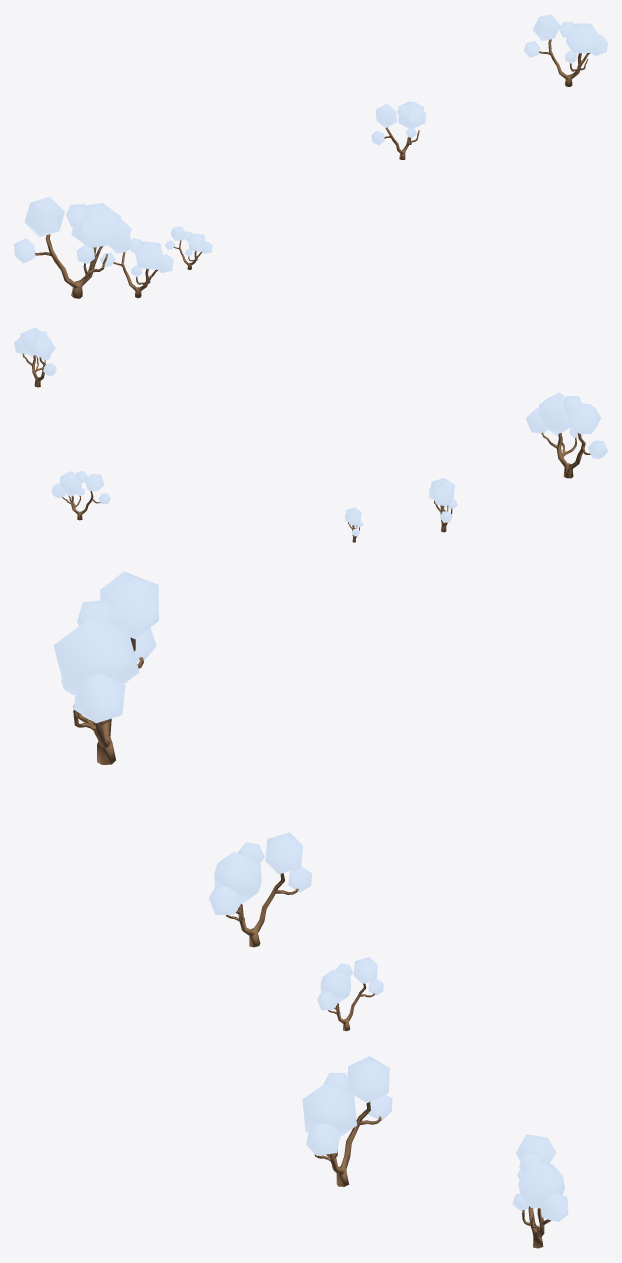
The model's file is atmosphere_tree_lights-compressed.glb.
3 views of the same model, one above another, from view 1: azimuth 30°, elevation 25°; view 2: azimuth 150°, elevation 25°; view 3: azimuth 270°, elevation 25° (orthographic). The views are drawn at different scales.
Visible parts, largest first — view 1: TreeLights.003, TreeLights.004, TreeLights.002, TreeLights, TreeLights.001; view 2: TreeLights.003, TreeLights.004, TreeLights, TreeLights.002, TreeLights.001; view 3: TreeLights.003, TreeLights.004, TreeLights.002, TreeLights, TreeLights.001.
Part boxes in pixels (<box>): TreeLights.003: <box>14,196,131,298</box>; TreeLights.004: <box>524,14,607,86</box>; TreeLights.002: <box>100,236,173,298</box>; TreeLights: <box>371,101,426,159</box>; TreeLights.001: <box>165,226,212,269</box>; TreeLights.003: <box>526,392,607,478</box>; TreeLights.004: <box>14,327,56,387</box>; TreeLights: <box>52,471,110,520</box>; TreeLights.002: <box>429,477,457,532</box>; TreeLights.001: <box>345,507,362,542</box>; TreeLights.003: <box>53,571,158,764</box>; TreeLights.004: <box>302,1056,392,1186</box>; TreeLights.002: <box>209,832,311,947</box>; TreeLights: <box>512,1134,568,1248</box>; TreeLights.001: <box>317,957,383,1031</box>.
Size of the model in its own units: 7.51 by 1.86 by 3.07.
